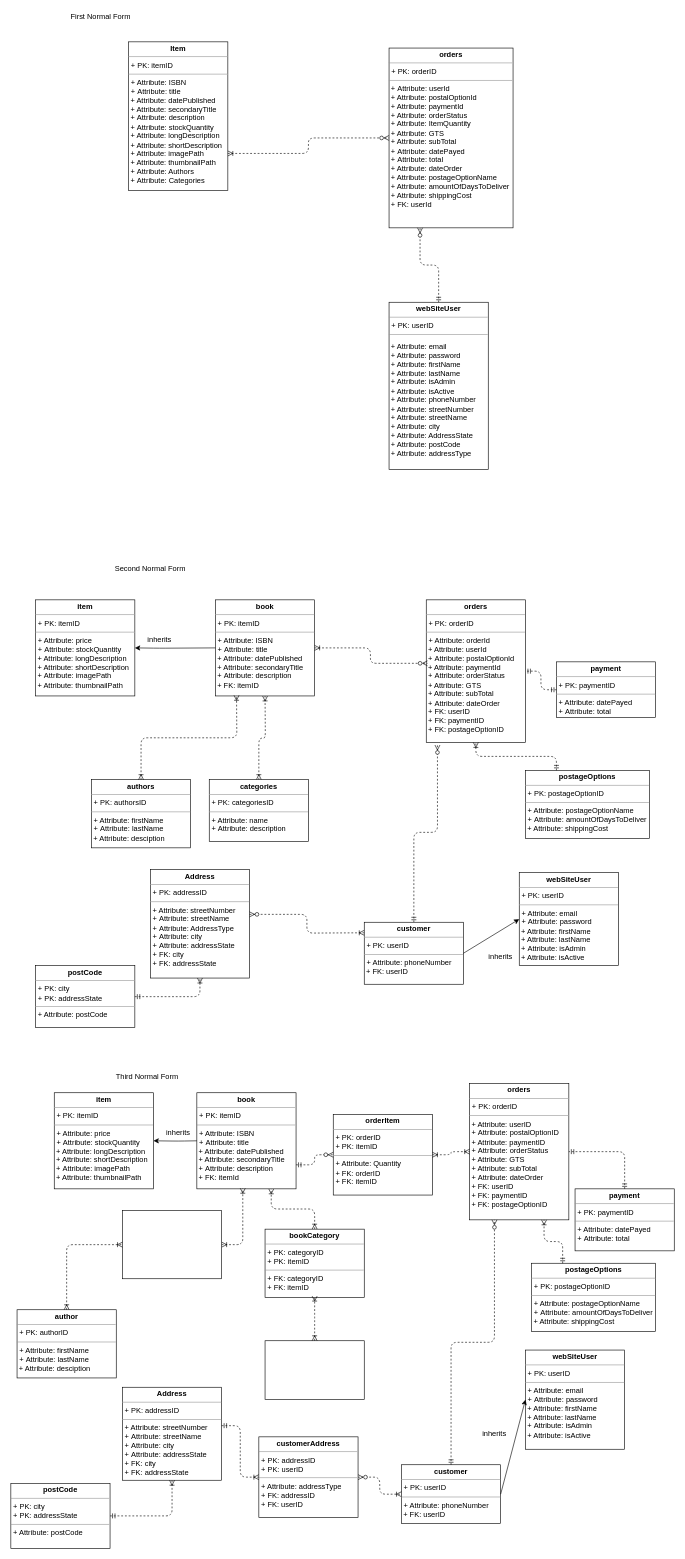
Image size: 685x1559. Some labels were removed from this diagram. The shapes that lost their labels are listed below. From the top down, each one's centre as x and y in pixels, then its label:
At (172,1244): "bookAuthor + PK: authorID + PK: itemID + FK: authorID + FK: itemID".
At (314,1370): "category + PK: categoryID + Attribute: name + Attribute : description".
